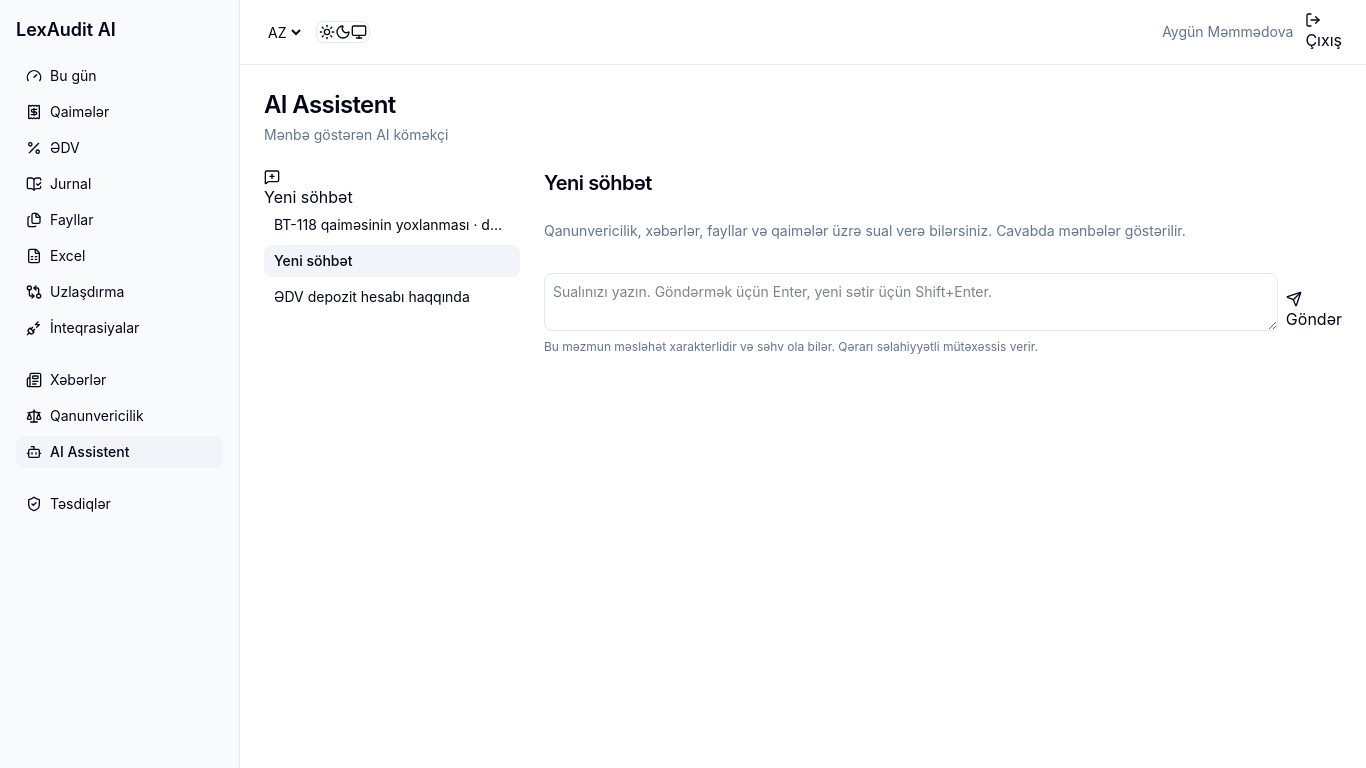
Test: a grounded answer › streams in with the tool that was used and its sources, and the stored copy replaces the live one
The image size is (1366, 768).
Type "ƏDV qaimə haqqında soruşuram" into the text box named "Mesajınız" at x=911, y=302, box [544,273,1278,331]
Then press Enter
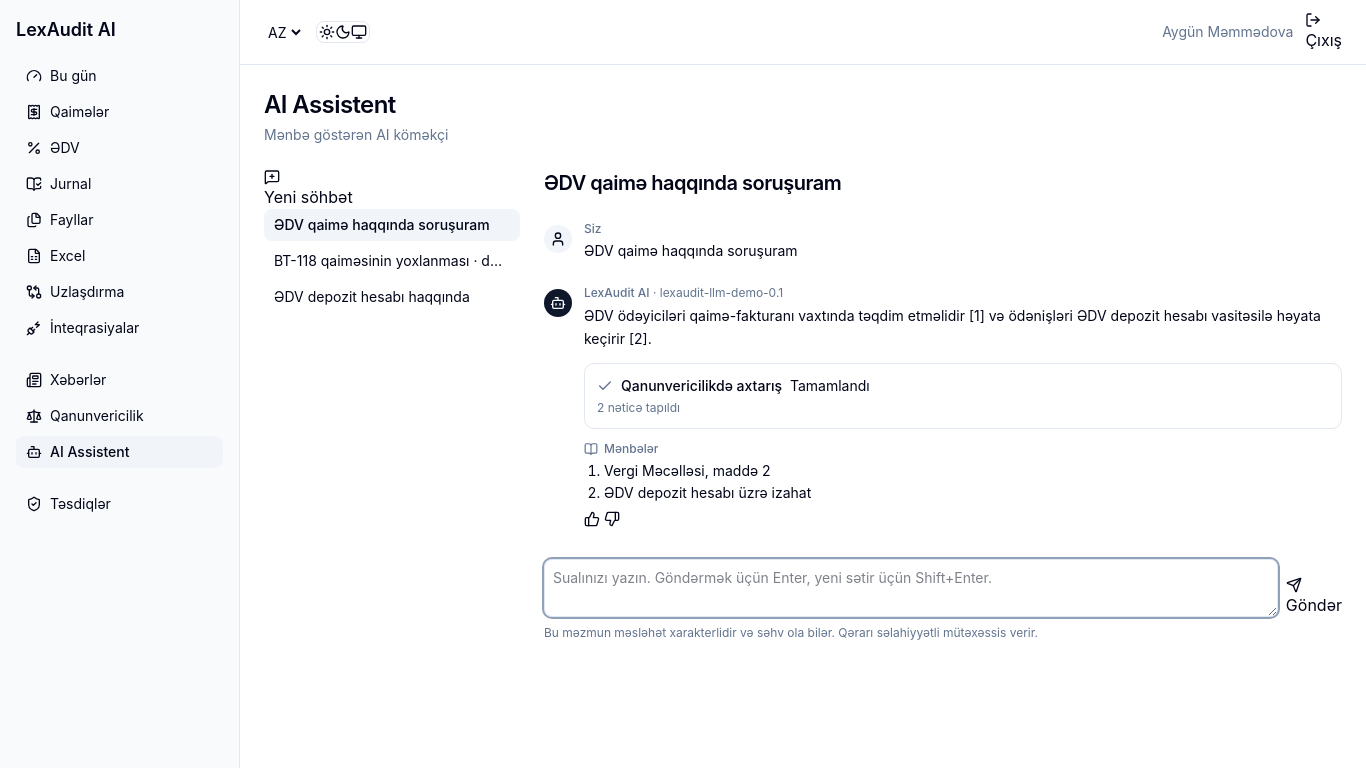
Check: the text "qaimə-fakturanı vaxtında təqdim etməlidir [1]" is shown, box [584,307,1321,347]
Check: the list item "Vergi Məcəlləsi, maddə 2" is shown, box [604,462,771,478]
Check: the text "Qanunvericilikdə axtarış" is shown, box [621,376,782,396]
